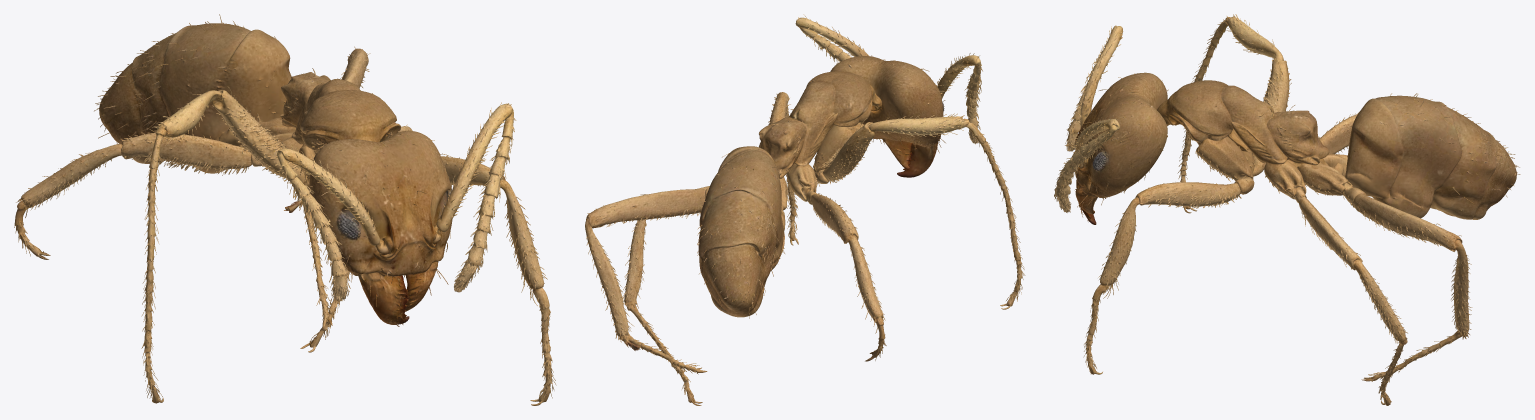
File: esp5.glb
3 renders of one model, left to right at view 1: azimuth 30°, elevation 25°; view 2: azimuth 150°, elevation 25°; view 3: azimuth 270°, elevation 25°, orthographic. The views are drawn at different scales.
Size of the model in its own units: 1.5 by 1.35 by 1.88.
1 material, 1 textured.
